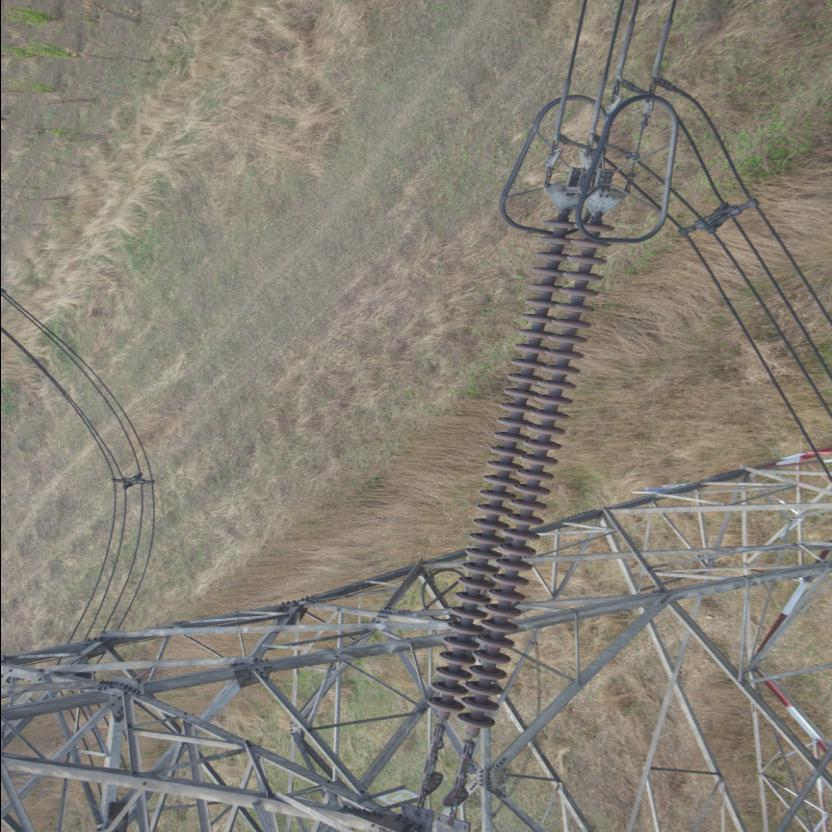insulator: (414, 208, 614, 774)
